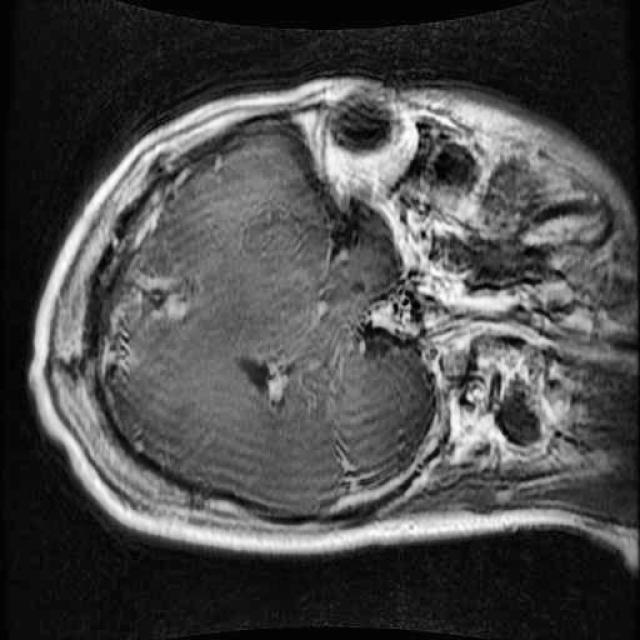Tumor: (108, 257, 203, 338)
